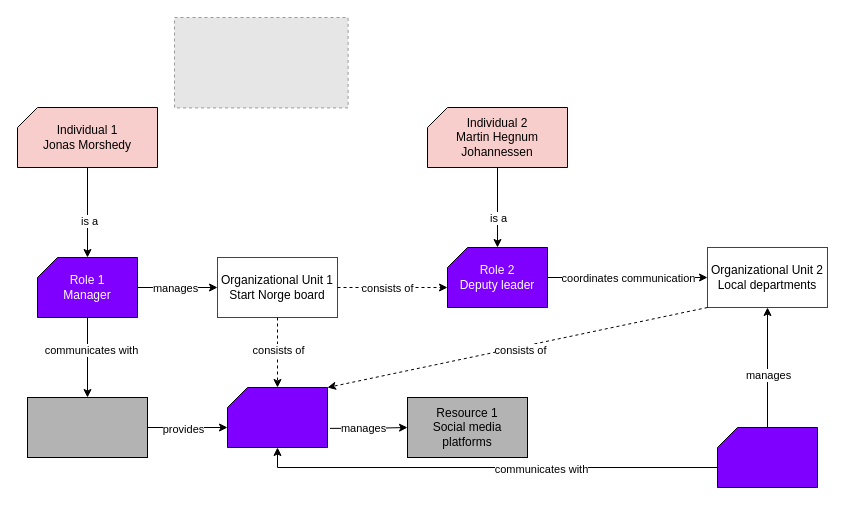
Some shapes in this 845 by 505 pixel diagram are drawn without their labels. Grey dashed boxes stand in for pictures. The centre of each missing label's shape, as x and y in pixels:
"Resource 2 External marketing agencies" belongs at pixel 87 427.
"Role 3 Content creator" belongs at pixel 277 417.
"Role 4 Local department leader" belongs at pixel 767 457.
